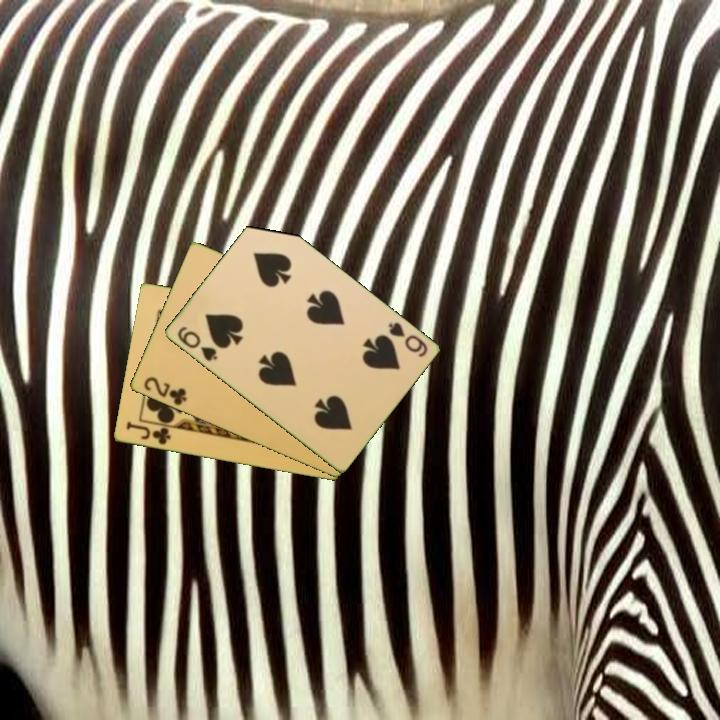2c: (140, 373, 189, 409)
6s: (384, 318, 430, 360), (173, 323, 220, 364)
Jc: (122, 418, 173, 448)
